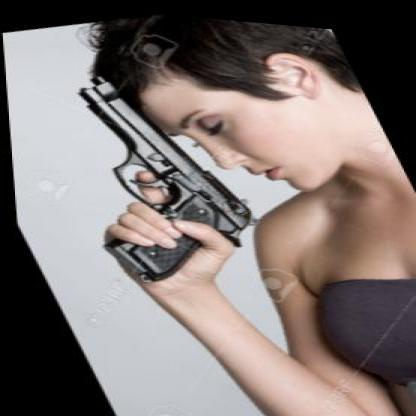pistol: (3, 45, 276, 297)
